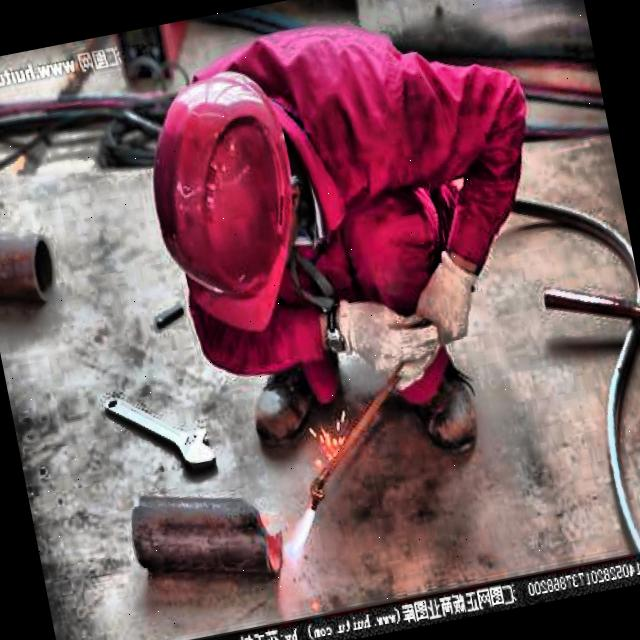helmet: (118, 51, 354, 370)
